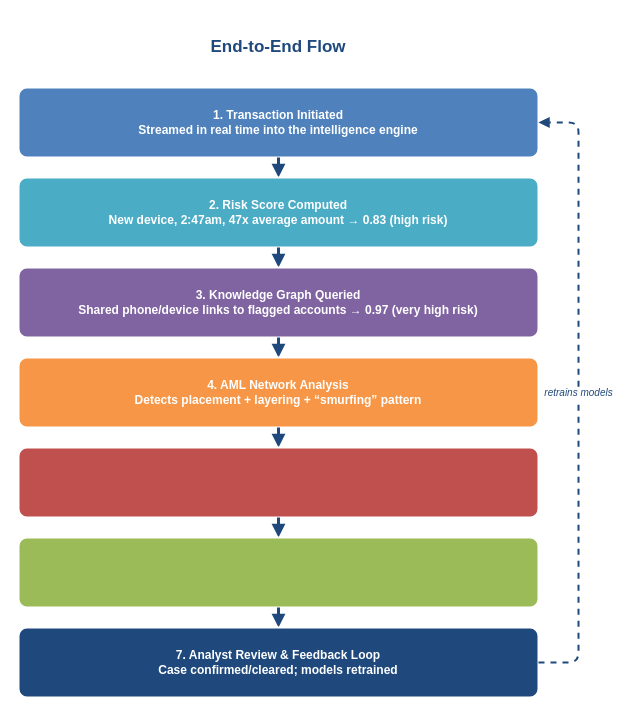
Some shapes in this 629 by 715 pixel diagram are drawn without their labels. The centre of each missing label's shape, as x and y in pixels:
"5. Auto-Freeze & Alert Transaction blocked; analyst dashboard notified" goes at (x=278, y=482).
"6. SAR Auto-Generated RAG-grounded compliance draft via LLM (3-4 hrs → 15 min)" goes at (x=278, y=572).
